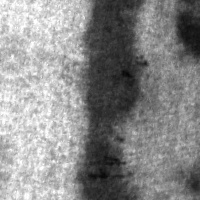patches: (69, 0, 154, 143), (69, 126, 144, 199), (169, 6, 199, 60)
